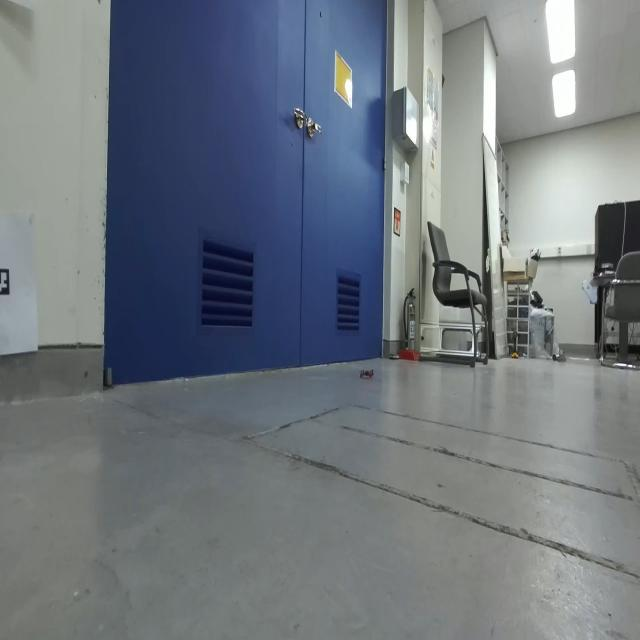crazyflie: (354, 363, 378, 387)
